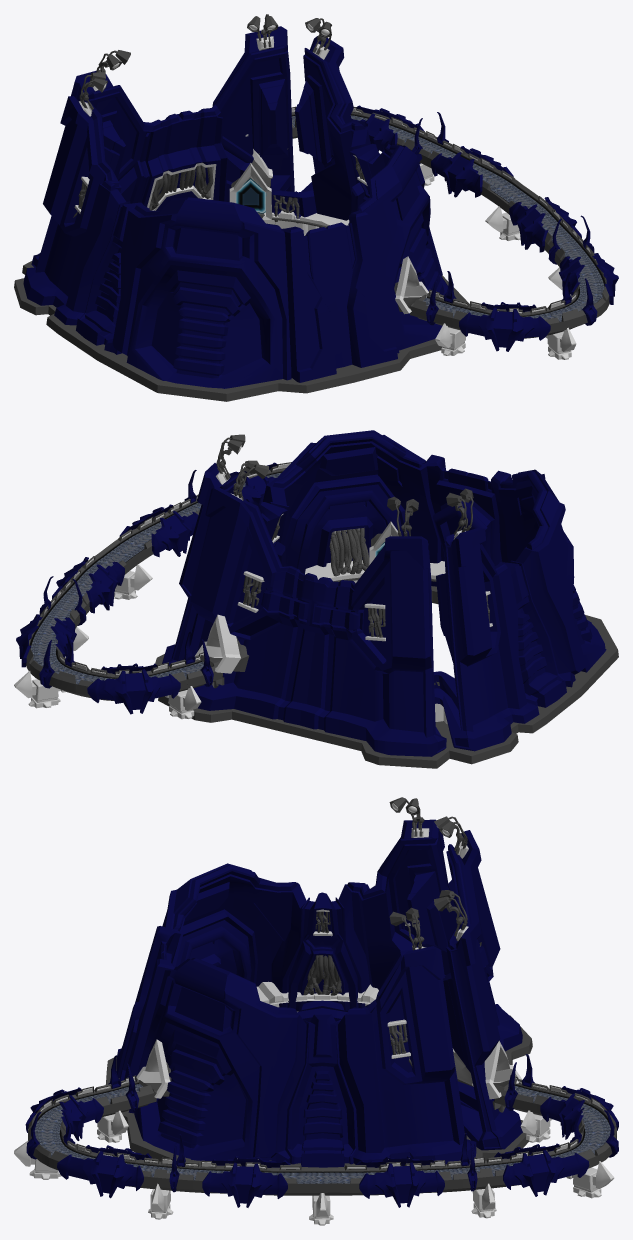
The model's file is arena_slingshock_green.fbx.
3 views of the same model, one above another, from view 1: azimuth 30°, elevation 25°; view 2: azimuth 150°, elevation 25°; view 3: azimuth 270°, elevation 25° (orthographic). The views are drawn at different scales.
Parts seen in each view (by area): view 1: Arena_Slingshot_MeshPart2, Arena_Slingshot_MeshPart0, Arena_Slingshot_MeshPart1; view 2: Arena_Slingshot_MeshPart2, Arena_Slingshot_MeshPart0, Arena_Slingshot_MeshPart1; view 3: Arena_Slingshot_MeshPart2, Arena_Slingshot_MeshPart0, Arena_Slingshot_MeshPart1.
Boxes of the visible parts, left/top/right/bottom form: Arena_Slingshot_MeshPart2: left=23, top=26, right=618, bottom=388; Arena_Slingshot_MeshPart0: left=14, top=18, right=605, bottom=401; Arena_Slingshot_MeshPart1: left=73, top=14, right=609, bottom=382; Arena_Slingshot_MeshPart2: left=16, top=430, right=606, bottom=756; Arena_Slingshot_MeshPart0: left=29, top=434, right=618, bottom=768; Arena_Slingshot_MeshPart1: left=14, top=447, right=464, bottom=735; Arena_Slingshot_MeshPart2: left=14, top=819, right=618, bottom=1225; Arena_Slingshot_MeshPart0: left=37, top=797, right=609, bottom=1172; Arena_Slingshot_MeshPart1: left=28, top=808, right=616, bottom=1198.
Size of the model in its own units: 36.92 by 18.11 by 40.13.
